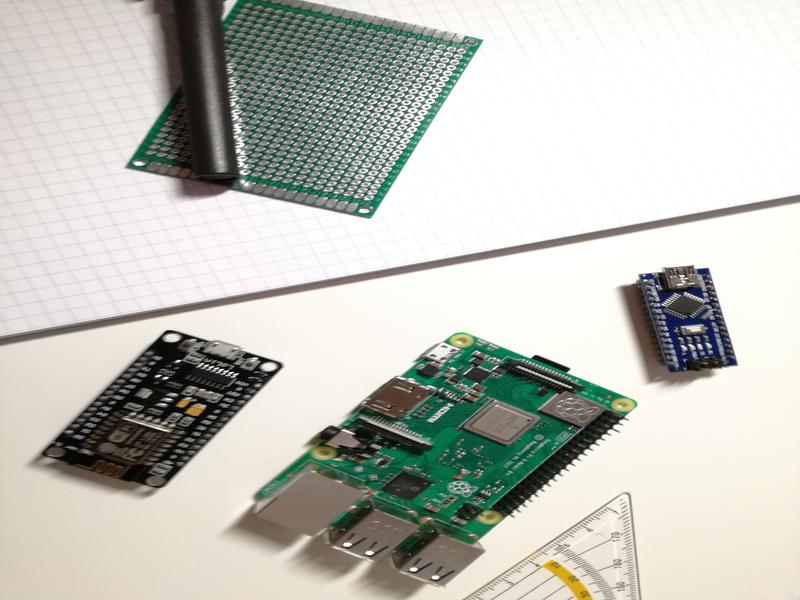Arduino_Nano: (635, 263, 743, 379)
ESP8266: (37, 329, 287, 489)
Raspberry_Pi_3: (251, 326, 641, 584)
